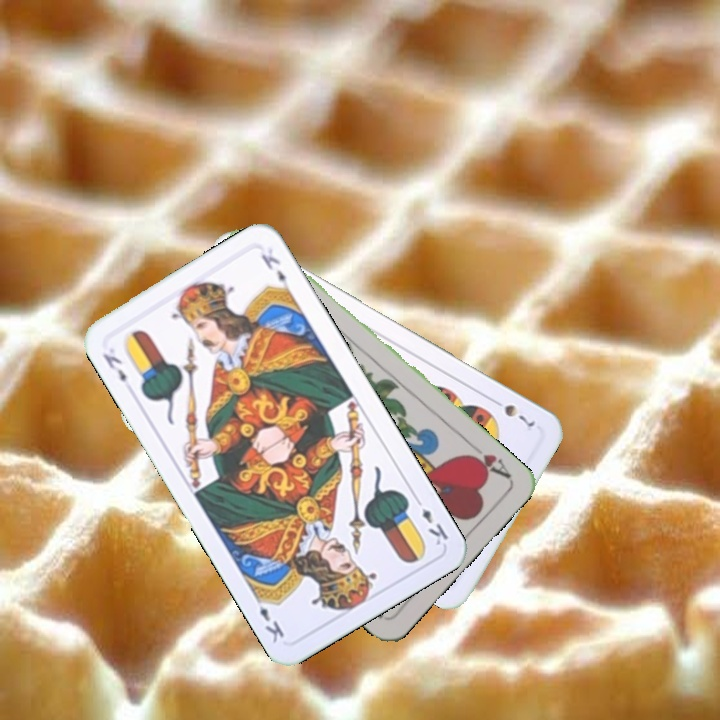EK: (410, 492, 451, 548), (98, 349, 129, 385)
HA: (463, 438, 514, 481)
S7: (487, 394, 538, 430)
